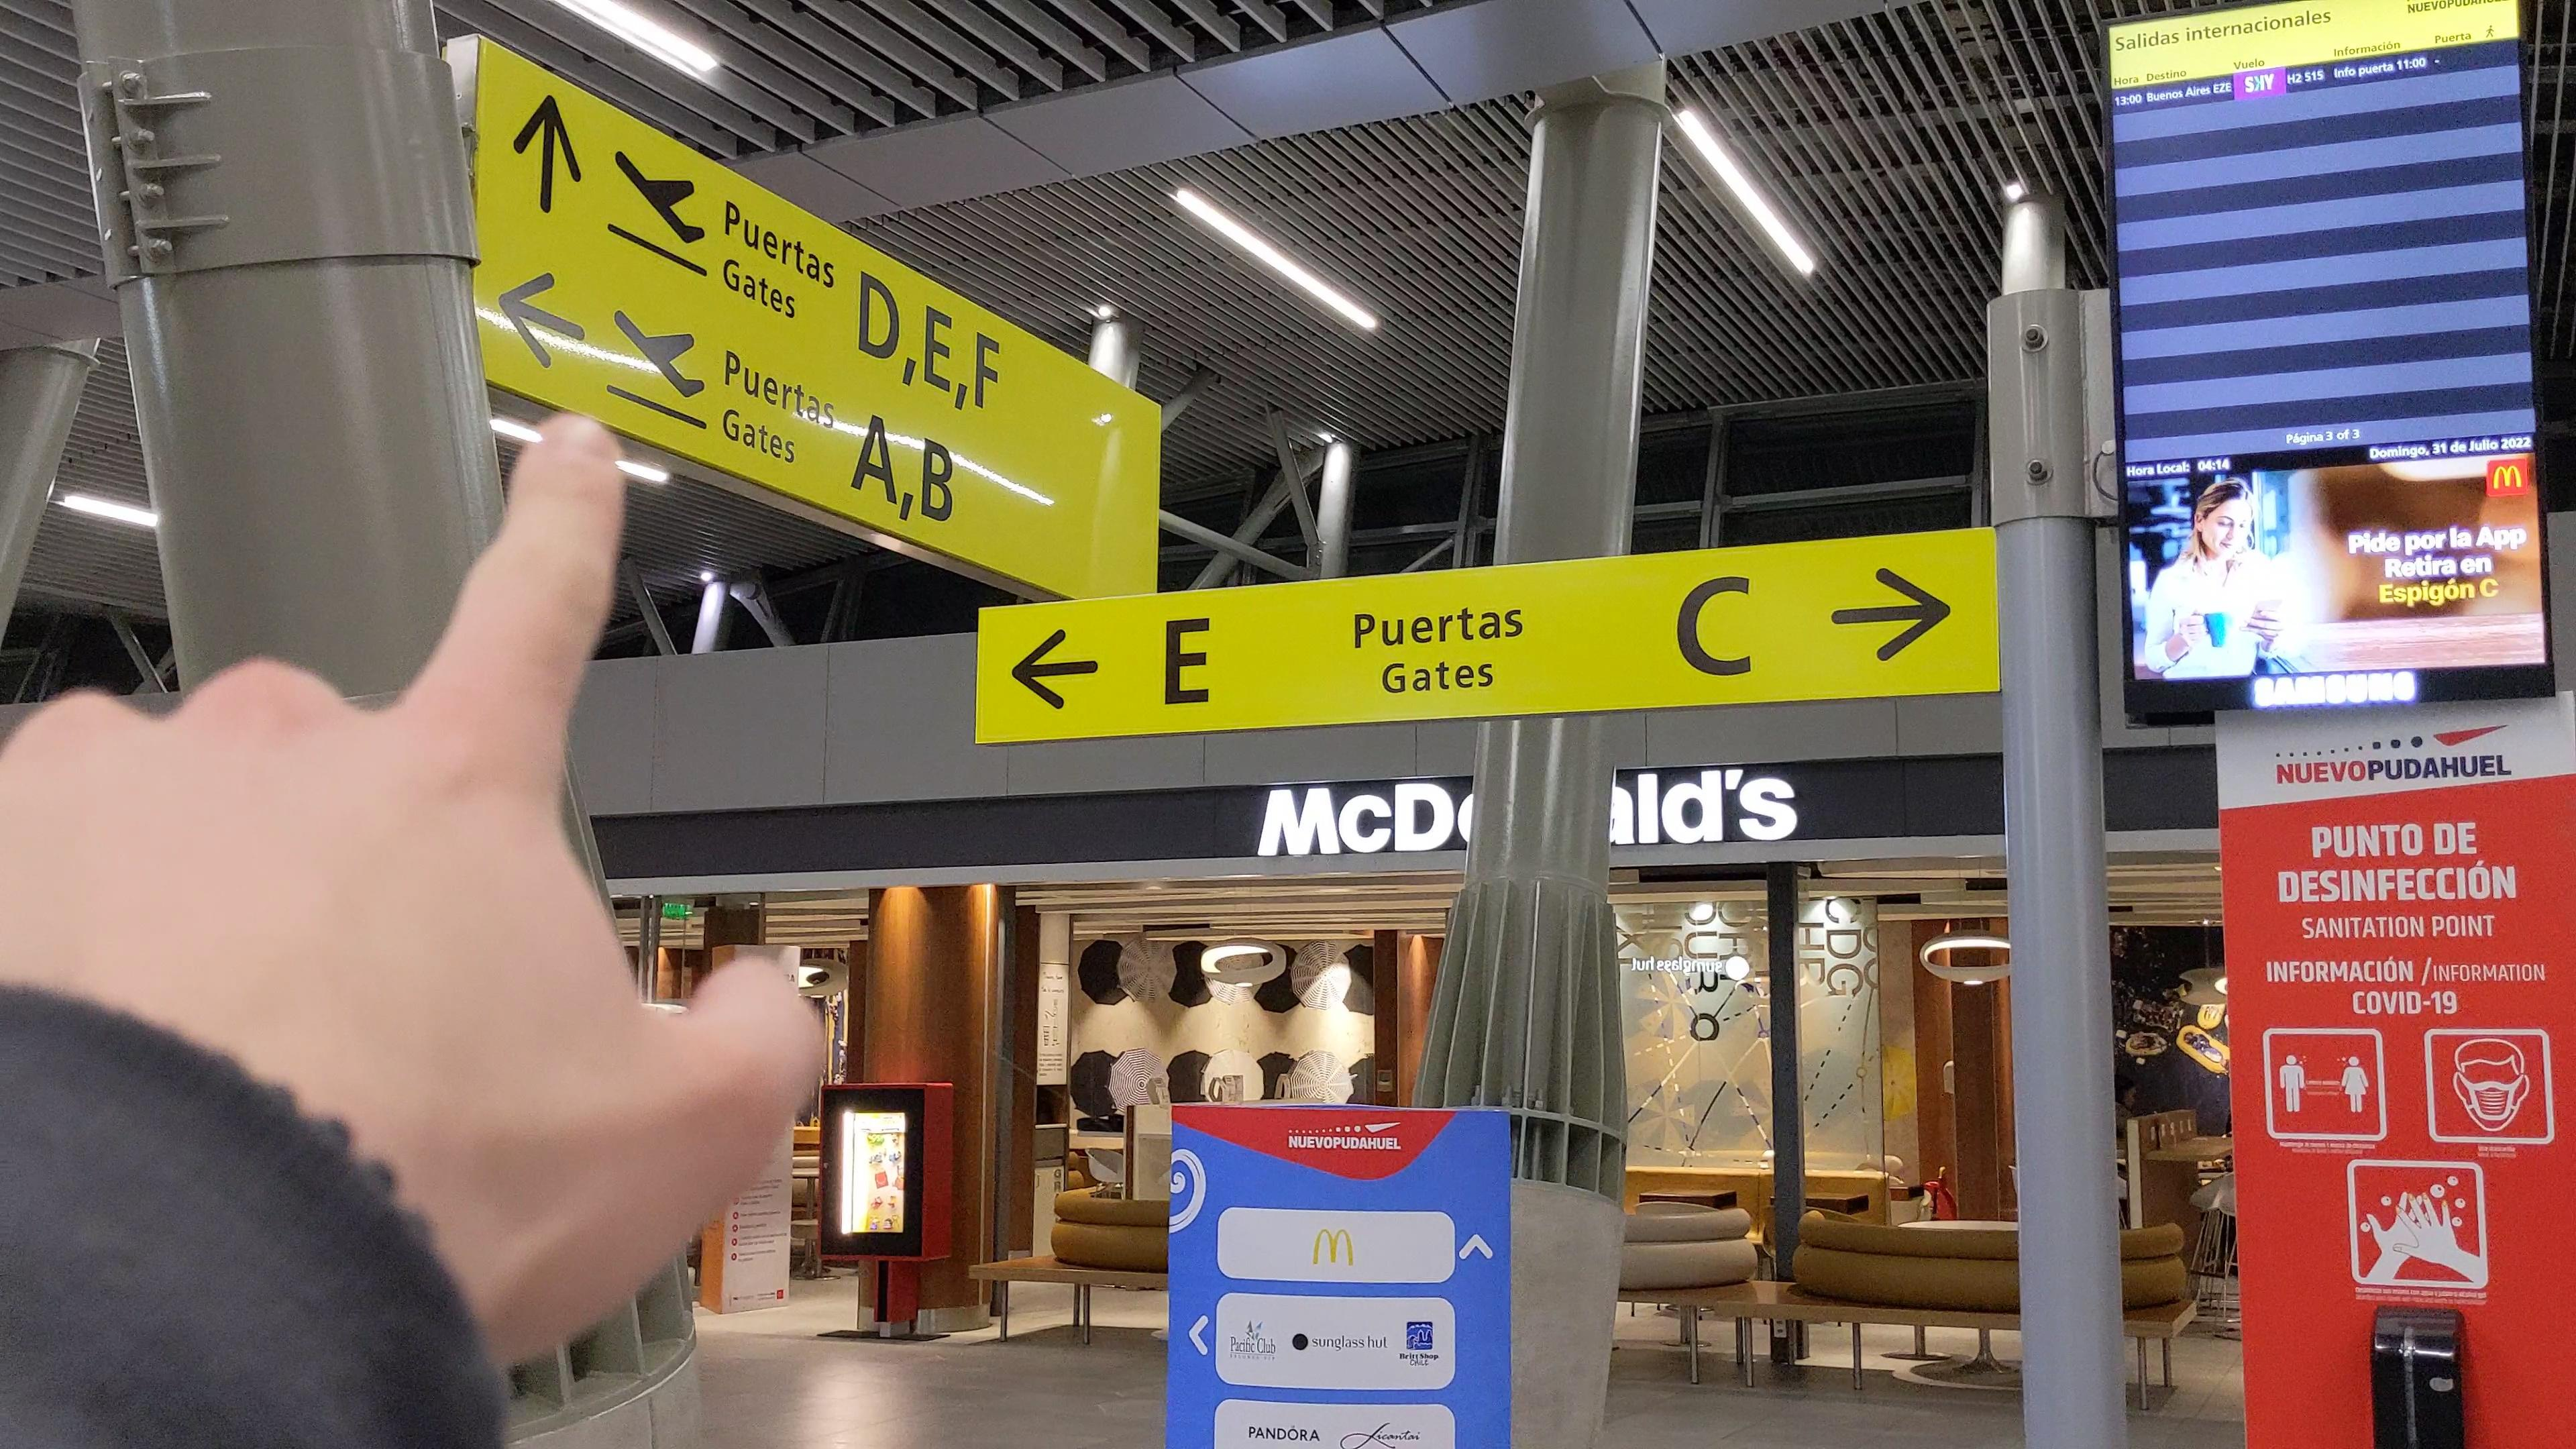airplane symbol: (602, 140, 709, 253), (609, 297, 709, 407)
thin left arrow: (488, 264, 594, 372), (1008, 623, 1104, 718)
thin right arrow: (1817, 563, 1957, 665)
thin up arrow: (506, 83, 584, 221)
